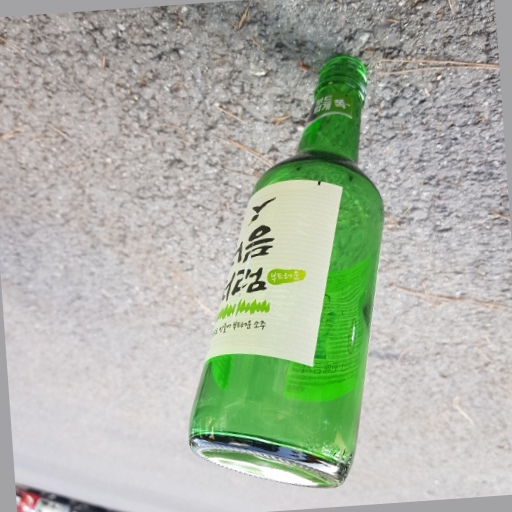Glass_0: (181, 52, 391, 492)
